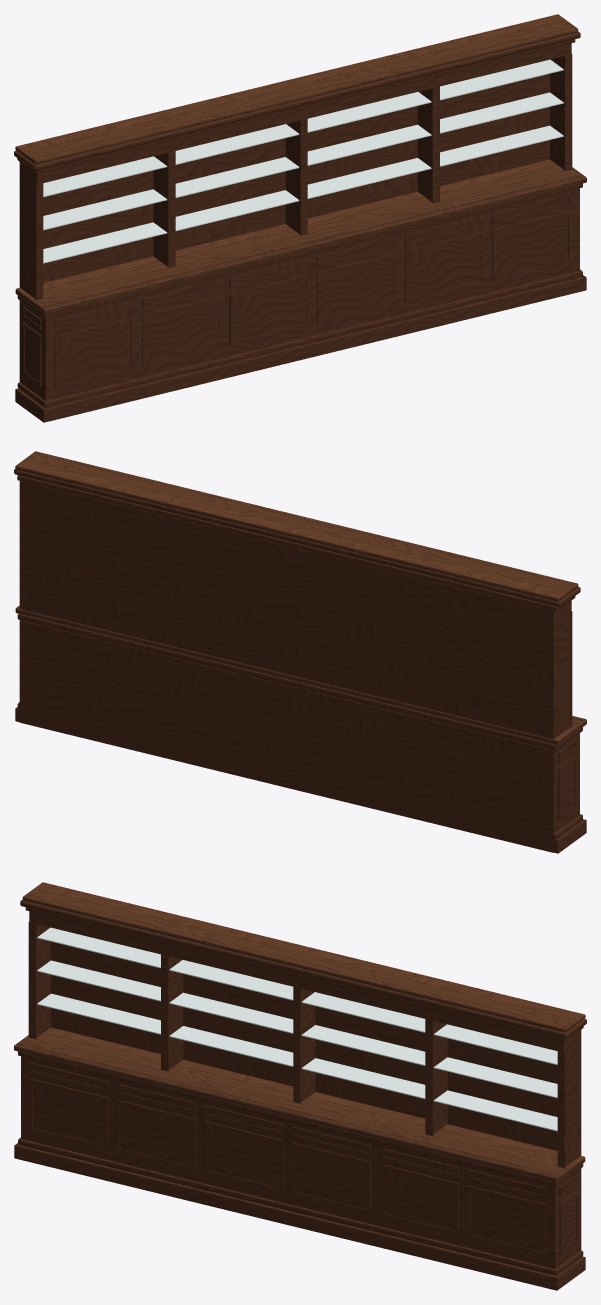
File: back_bar.glb
The picture shows the model from 3 angles, top to bottom: view 1: azimuth 30°, elevation 25°; view 2: azimuth 150°, elevation 25°; view 3: azimuth 330°, elevation 25°; orthographic projection.
Parts seen in each view (by area): view 1: back_bar; view 2: back_bar; view 3: back_bar.
Boxes of the visible parts, x1,y1,x2,y2 form: back_bar: [14, 14, 586, 422]; back_bar: [14, 451, 586, 853]; back_bar: [14, 882, 586, 1290].
Bounding box in the file's own units: 6.04 × 2.7 × 0.56.
4 materials, 2 textured.
